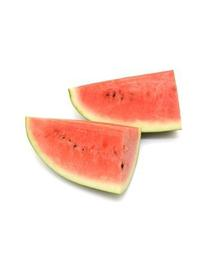watermelon: (16, 70, 183, 198)
